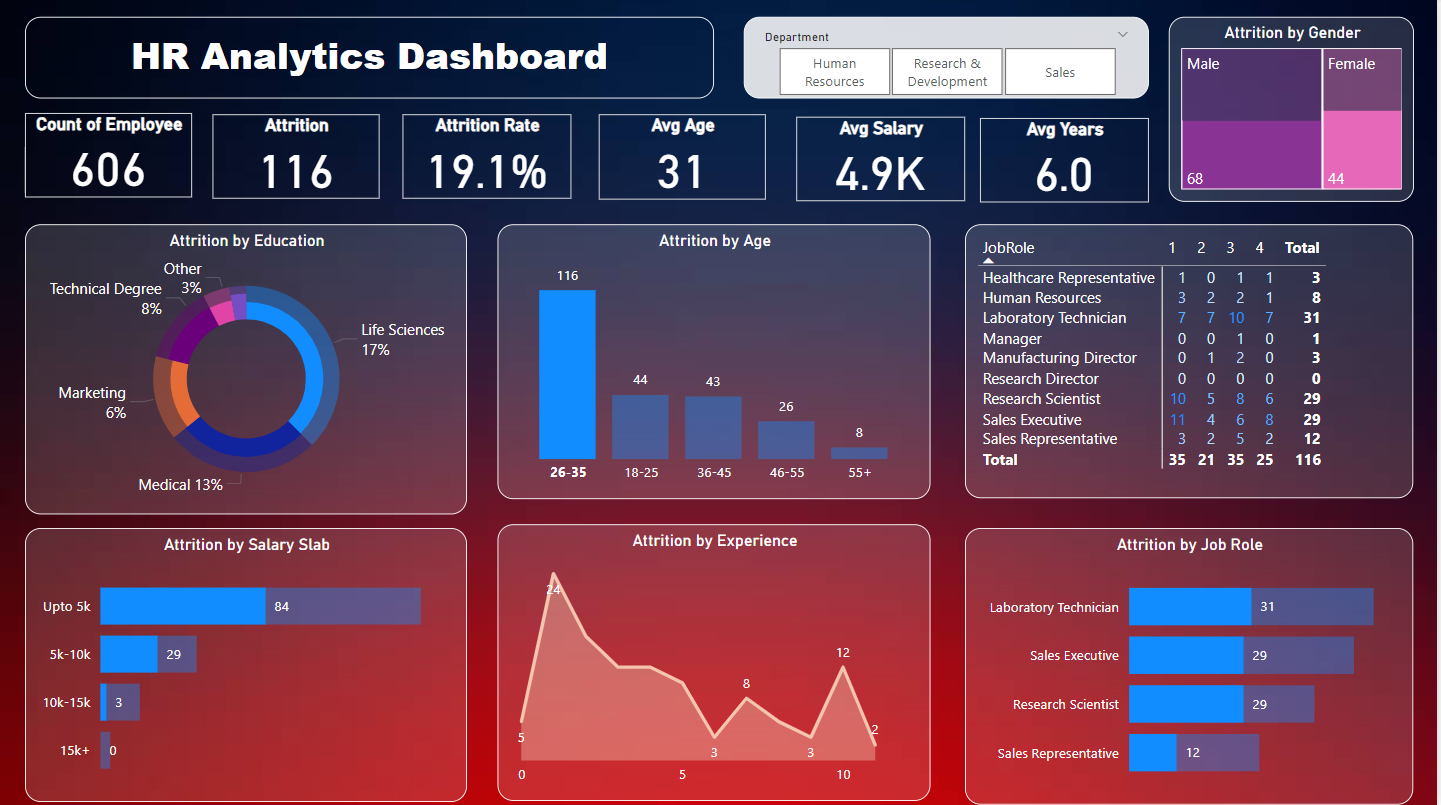

This screenshot's page, from the dashboard's own definition file:
{"tool":"powerbi","page":{"name":"Page 1","canvas":[1280,720],"ordinal":0},"visuals":[{"type":"card","title":"Count of Employee","fields":{"Values":["CountNonNull(HR_Analytics.EmpID)"]},"box":[21.9,102.7,148.8,75.1],"z":0},{"type":"card","title":"Attrition","fields":{"Values":["Sum(HR_Analytics.AttritionCount)"]},"box":[189.1,104,148.8,75.1],"z":1000},{"type":"card","title":"Attrition Rate","fields":{"Values":["HR_Analytics.AttritionRate"]},"box":[359,104,150.1,75.1],"z":2000},{"type":"card","title":"Avg Age","fields":{"Values":["Avg(HR_Analytics.Age)"]},"box":[532.8,104,148.8,76.4],"z":3000},{"type":"card","title":"Avg Salary","fields":{"Values":["Avg(HR_Analytics.MonthlyIncome)"]},"box":[709.3,105.3,150.1,75.1],"z":4000},{"type":"card","title":"Avg Years","fields":{"Values":["Avg(HR_Analytics.YearsAtCompany)"]},"box":[872.6,106.7,150.1,75.1],"z":5000},{"type":"donutChart","title":"Attrition by Education","fields":{"Category":["HR_Analytics.EducationField"],"Y":["Sum(HR_Analytics.AttritionCount)"]},"box":[21.9,201.5,393.7,258.1],"z":6000},{"type":"columnChart","title":"Attrition by Age","fields":{"Category":["HR_Analytics.AgeGroup"],"Y":["Sum(HR_Analytics.AttritionCount)"]},"box":[443.3,201.5,385.8,244.9],"z":7000},{"type":"pivotTable","fields":{"Rows":["HR_Analytics.JobRole"],"Columns":["HR_Analytics.JobSatisfaction"],"Values":["Sum(HR_Analytics.AttritionCount)"]},"box":[859.4,201.5,399,243.6],"z":8000},{"type":"barChart","title":"Attrition by Age","fields":{"Category":["HR_Analytics.SalarySlab"],"Y":["Sum(HR_Analytics.AttritionCount)"]},"box":[21.9,471.4,393.7,243.6],"z":9000},{"type":"barChart","title":"Attrition by Age","fields":{"Category":["HR_Analytics.JobRole"],"Y":["Sum(HR_Analytics.AttritionCount)"]},"box":[859.4,471.4,399,246.3],"z":10000},{"type":"areaChart","title":"Attrition by Age","fields":{"Category":["HR_Analytics.YearsAtCompany"],"Y":["Sum(HR_Analytics.AttritionCount)"]},"box":[443.3,468.8,385.8,246.3],"z":11000},{"type":"treemap","title":"Attrition by Age","fields":{"Group":["HR_Analytics.Gender"],"Values":["Sum(HR_Analytics.AttritionCount)"]},"box":[1040.3,17.1,218.6,164.6],"z":12000},{"type":"slicer","fields":{"Values":["HR_Analytics.Department"]},"box":[662.4,17.1,360.8,72.4],"z":13000},{"type":"textbox","box":[22.4,17.1,613.7,72.4],"z":13001}]}

Visuals, with their boxes in screenshot pixels (x1, y1, x2, y2), scaled from the page's 1280x720 canvas onto the 1441x805 screenshot:
"Count of Employee" card: 25, 115, 192, 199
"Attrition" card: 213, 116, 380, 200
"Attrition Rate" card: 404, 116, 573, 200
"Avg Age" card: 600, 116, 767, 202
"Avg Salary" card: 799, 118, 967, 202
"Avg Years" card: 982, 119, 1151, 203
"Attrition by Education" donutChart: 25, 225, 468, 514
"Attrition by Age" columnChart: 499, 225, 933, 499
pivotTable - HR_Analytics.JobRole x HR_Analytics.JobSatisfaction: 967, 225, 1417, 498
"Attrition by Age" barChart: 25, 527, 468, 799
"Attrition by Age" barChart: 967, 527, 1417, 802
"Attrition by Age" areaChart: 499, 524, 933, 800
"Attrition by Age" treemap: 1171, 19, 1417, 203
slicer - HR_Analytics.Department: 746, 19, 1152, 100
textbox: 25, 19, 716, 100
